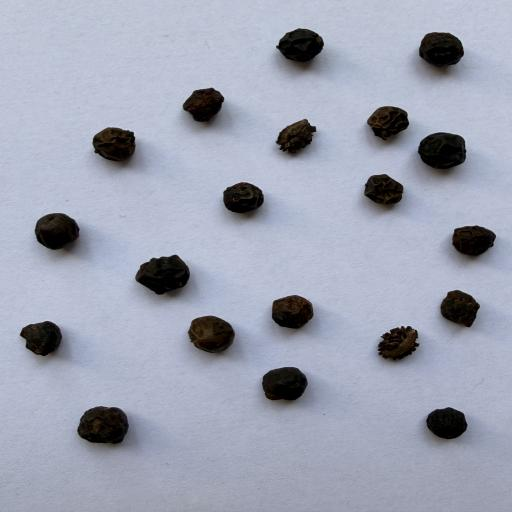Black_pepper: (134, 254, 193, 294), (76, 405, 129, 447), (418, 132, 469, 170), (189, 314, 236, 355), (34, 212, 80, 252), (417, 31, 466, 67), (262, 367, 310, 403), (91, 126, 138, 162), (272, 294, 316, 332), (276, 28, 324, 62), (181, 87, 227, 122), (439, 289, 480, 328), (20, 321, 63, 356), (366, 104, 410, 138), (222, 181, 266, 214), (426, 406, 468, 440), (452, 225, 495, 257), (365, 174, 405, 205)
papaya_seed: (369, 297, 427, 379), (269, 113, 341, 159)
